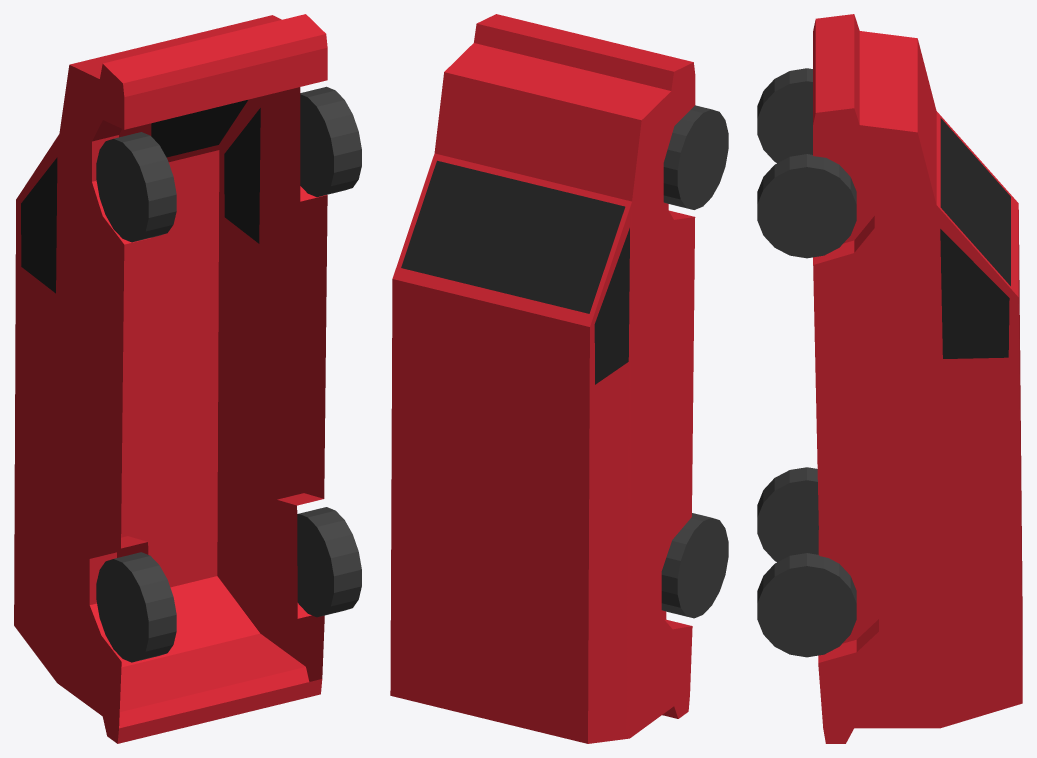
File: van_red.dae
3 renders of one model, left to right at view 1: azimuth 30°, elevation 25°; view 2: azimuth 150°, elevation 25°; view 3: azimuth 270°, elevation 25°, orthographic. The views are drawn at different scales.
Parts seen in each view (by area): view 1: Cube.002; view 2: Cube.002; view 3: Cube.002.
Boxes of the visible parts, x1,y1,x2,y2 form: Cube.002: [14, 14, 361, 743]; Cube.002: [390, 14, 728, 743]; Cube.002: [757, 14, 1022, 743].
Size of the model in its own units: 1.9 by 2.16 by 5.71.
